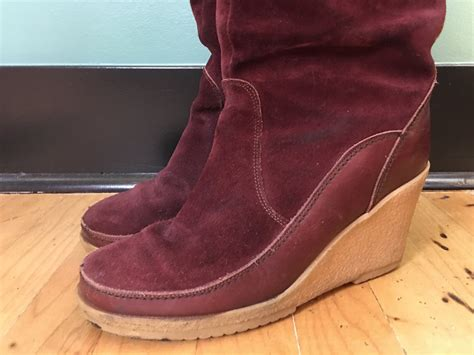gamuza: (81, 1, 446, 319)
